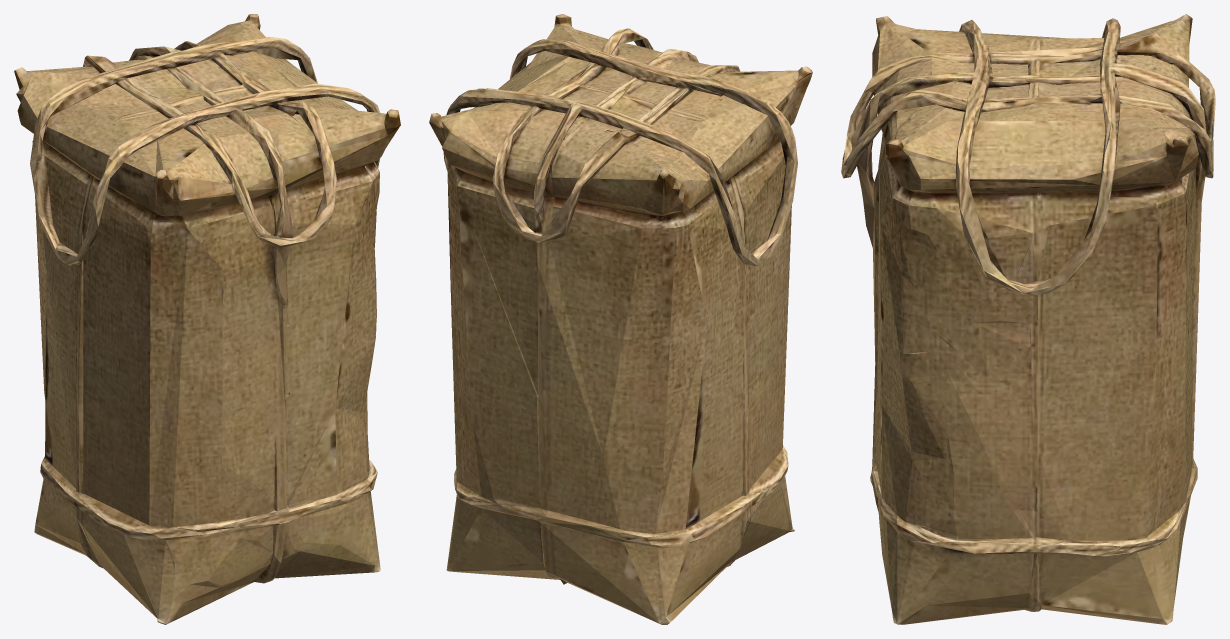
File: prop_grain_sack_01.glb
3 views of the same model, side by side, from view 1: azimuth 30°, elevation 25°; view 2: azimuth 150°, elevation 25°; view 3: azimuth 270°, elevation 25° (orthographic). The views are drawn at different scales.
Visible parts, largest first — view 1: geometry_0; view 2: geometry_0; view 3: geometry_0.
Part boxes in pixels (x1=…): geometry_0: x1=14, y1=14, x2=400, y2=624; geometry_0: x1=429, y1=14, x2=812, y2=624; geometry_0: x1=841, y1=14, x2=1215, y2=624.
Bounding box in the file's own units: 0.6457 × 0.9979 × 0.6685.
1 material, 1 textured.
